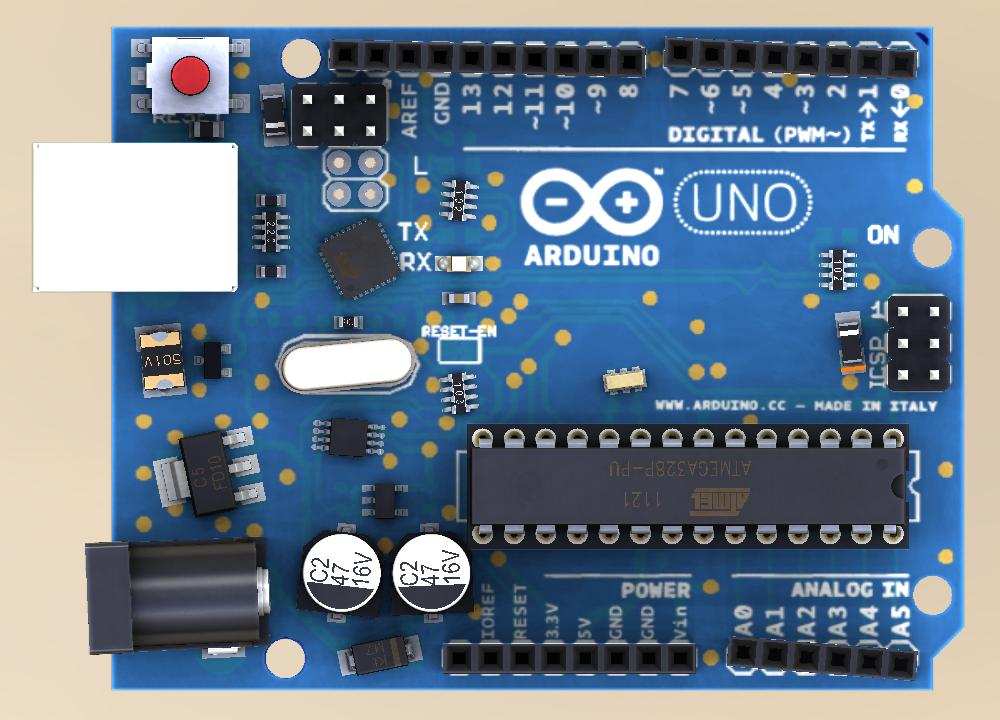16MHz Crystal: (603, 363, 649, 395)
47uF CAP: (296, 526, 385, 626), (390, 526, 474, 624)
ATMEL328P: (466, 421, 912, 548)
ATMega16u2: (314, 219, 405, 301)
CD1206: (833, 310, 866, 375), (260, 84, 291, 147)
Capa: (441, 287, 477, 307)
Crystal: (276, 333, 419, 393)
Fuse: (131, 324, 191, 399)
LED: (437, 254, 485, 274)
LMV358: (357, 477, 413, 524)
M7 diode: (334, 634, 424, 679)
Missing: (814, 223, 861, 247), (437, 221, 480, 247), (434, 154, 483, 176), (436, 126, 480, 150), (290, 307, 330, 333), (330, 480, 353, 518), (420, 480, 440, 519), (244, 307, 279, 329), (254, 159, 290, 179)
PIN Header: (889, 296, 951, 393), (294, 84, 387, 145)
Ports: (330, 34, 649, 79), (664, 37, 920, 82), (440, 637, 701, 678), (730, 639, 922, 680)
Power: (80, 534, 271, 657)
Regulator: (131, 414, 270, 530)
Reset: (127, 37, 254, 121)
Resistor: (251, 261, 287, 285), (189, 121, 225, 140), (330, 313, 366, 331), (254, 191, 287, 209)
Resistor pack: (436, 177, 480, 227), (437, 369, 479, 419), (251, 210, 294, 256), (817, 246, 859, 293)
SSOT3: (190, 339, 235, 379)
USB: (31, 141, 242, 293)
lp2985: (309, 411, 386, 462)
